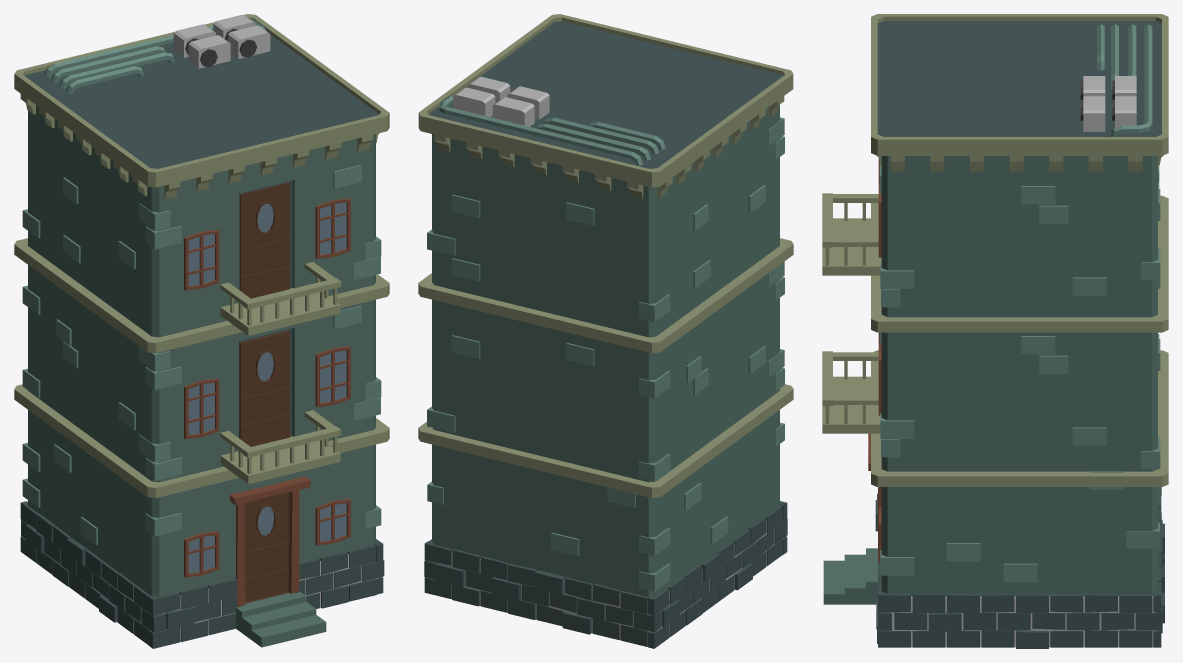
Rendered from 3Story_Balcony_Mat.gltf.
3 views of the same model, side by side, from view 1: azimuth 30°, elevation 25°; view 2: azimuth 150°, elevation 25°; view 3: azimuth 270°, elevation 25° (orthographic). The views are drawn at different scales.
Visible parts, largest first — view 1: o 3Story_Balcony_Mat_Cube.026; view 2: o 3Story_Balcony_Mat_Cube.026; view 3: o 3Story_Balcony_Mat_Cube.026.
Part boxes in pixels (x1,y1,x2,y2): o 3Story_Balcony_Mat_Cube.026: [14, 14, 389, 648]; o 3Story_Balcony_Mat_Cube.026: [418, 14, 793, 648]; o 3Story_Balcony_Mat_Cube.026: [822, 14, 1168, 648].
Size of the model in its own units: 2.16 by 4.21 by 2.51.
